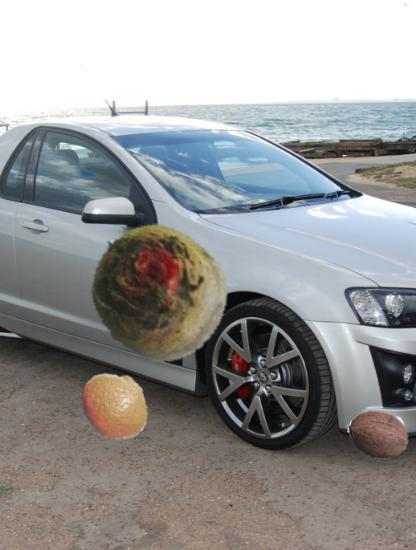Beetroot: (83, 217, 232, 366)
Cocos: (348, 405, 409, 466)
Mandarine: (79, 370, 151, 442)
